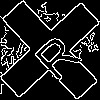R: (25, 25, 83, 83)
